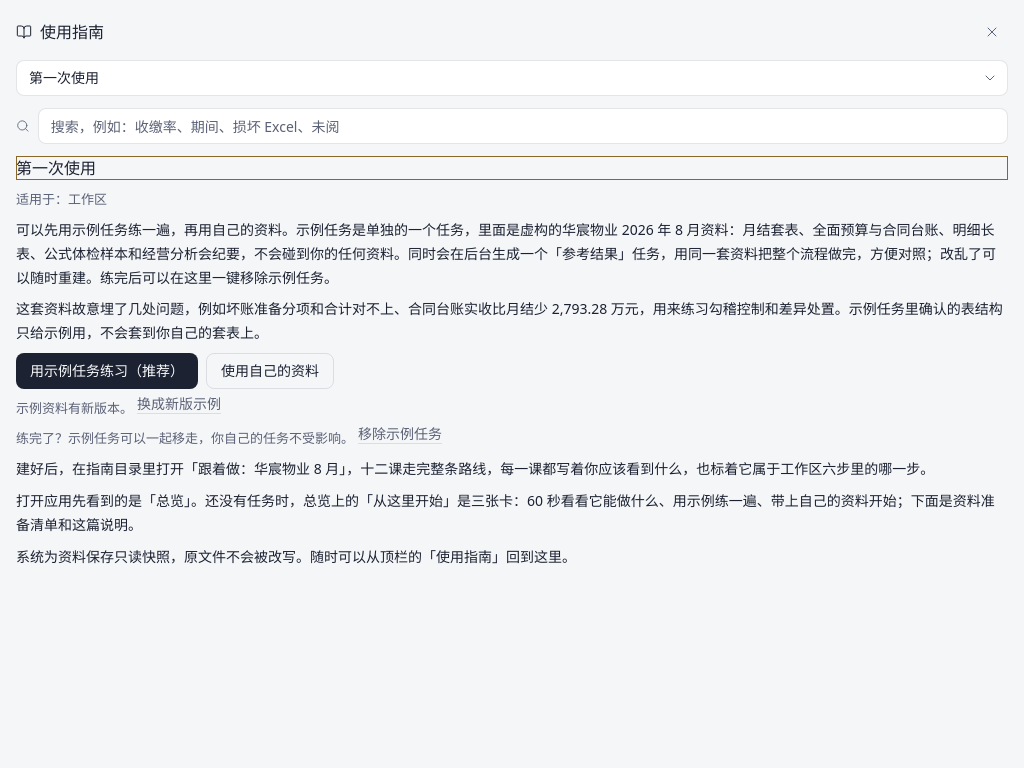
it: offers the newer pack when an example on the list is older
The image size is (1024, 768).
Click the button "换成新版示例" at (179,404), box [137,397,221,411]
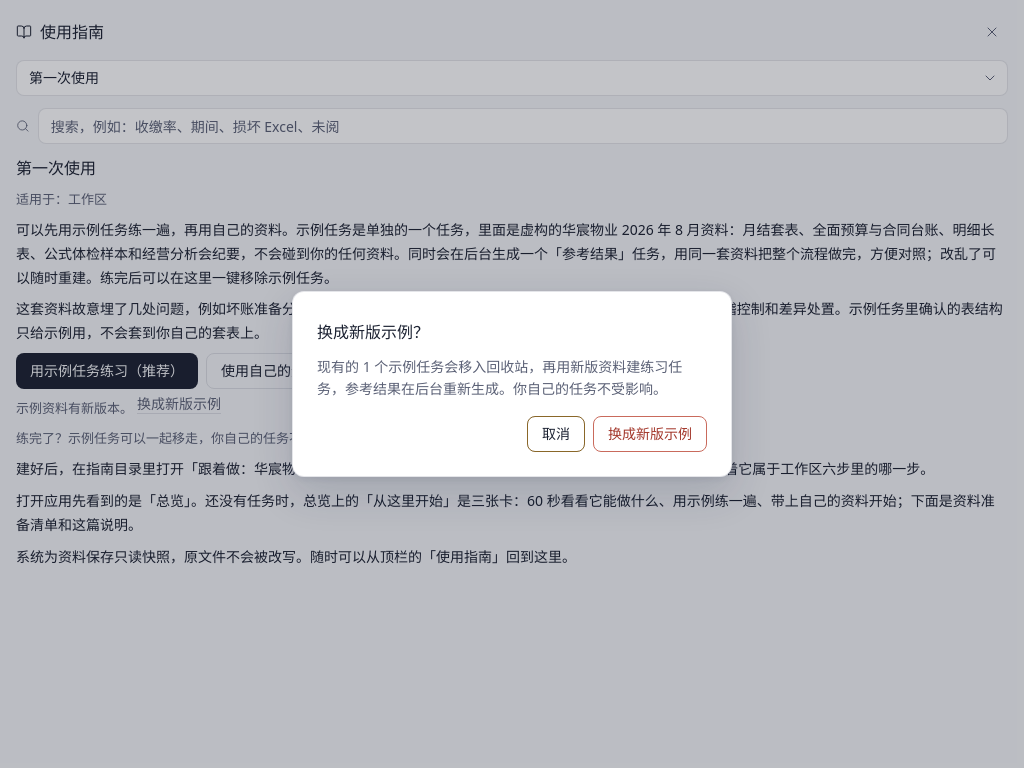
Expected: the dialog shows "新版资料", [317,357,682,398]
